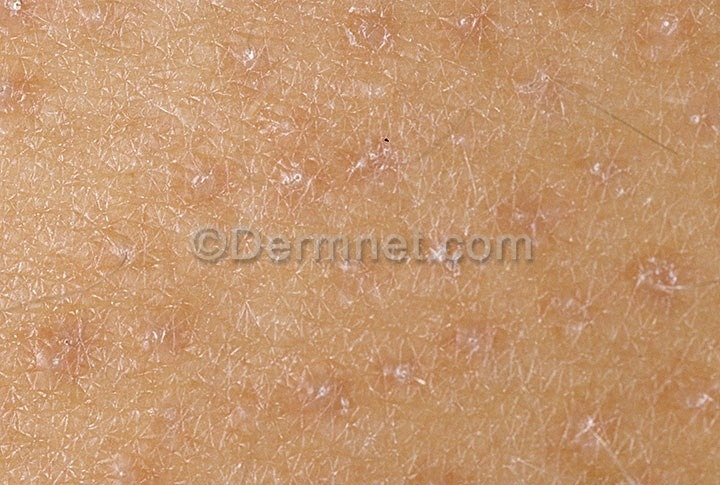Eczema: (1, 1, 720, 483)
